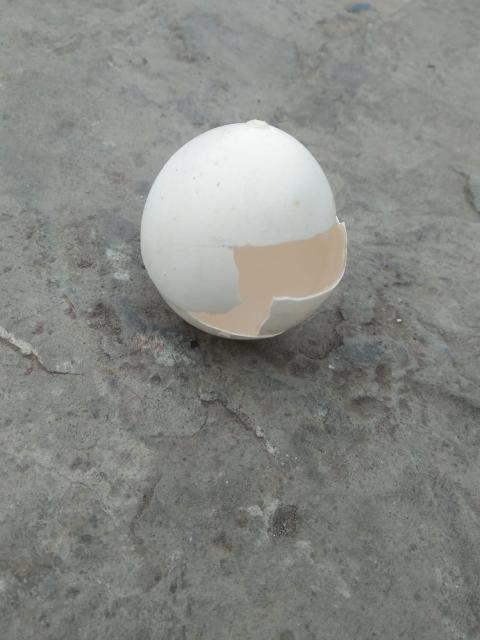Roto: (139, 117, 348, 340)
